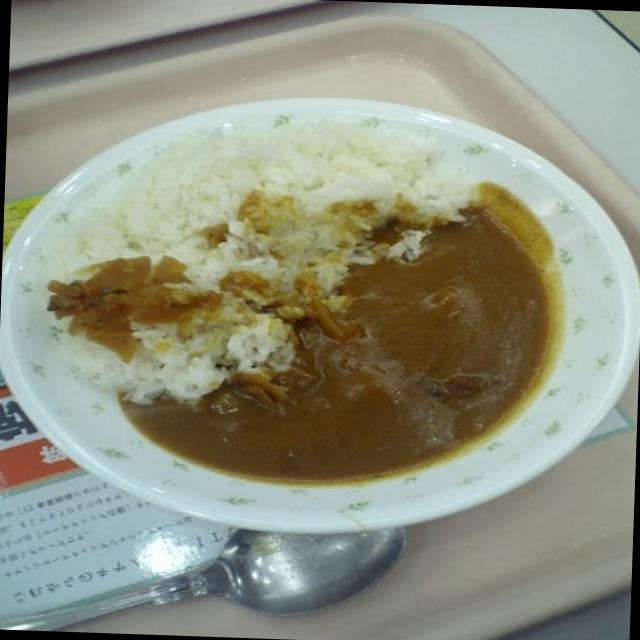Beef Curry: (171, 215, 537, 480)
